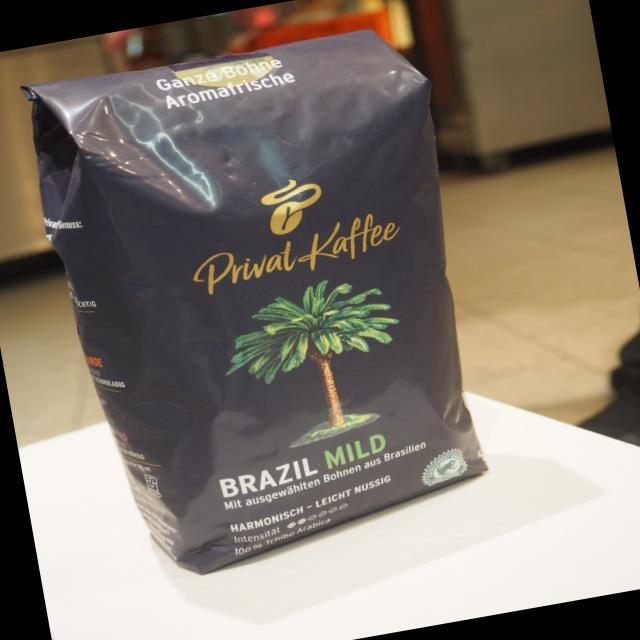BM Bohne: (0, 16, 493, 597)
